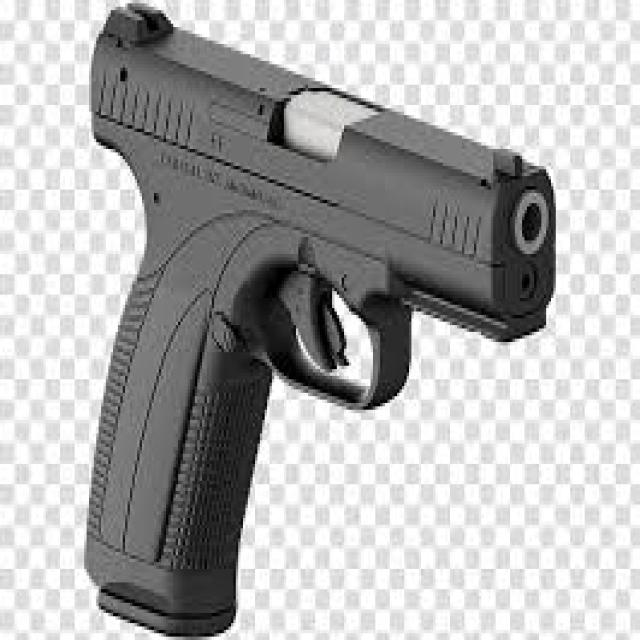Gun: (55, 0, 560, 640)
